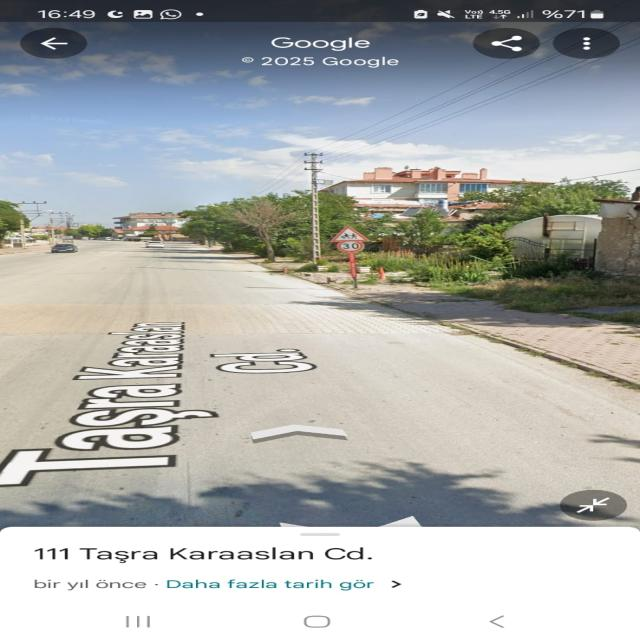okul_gecidi: (329, 225, 371, 242)
